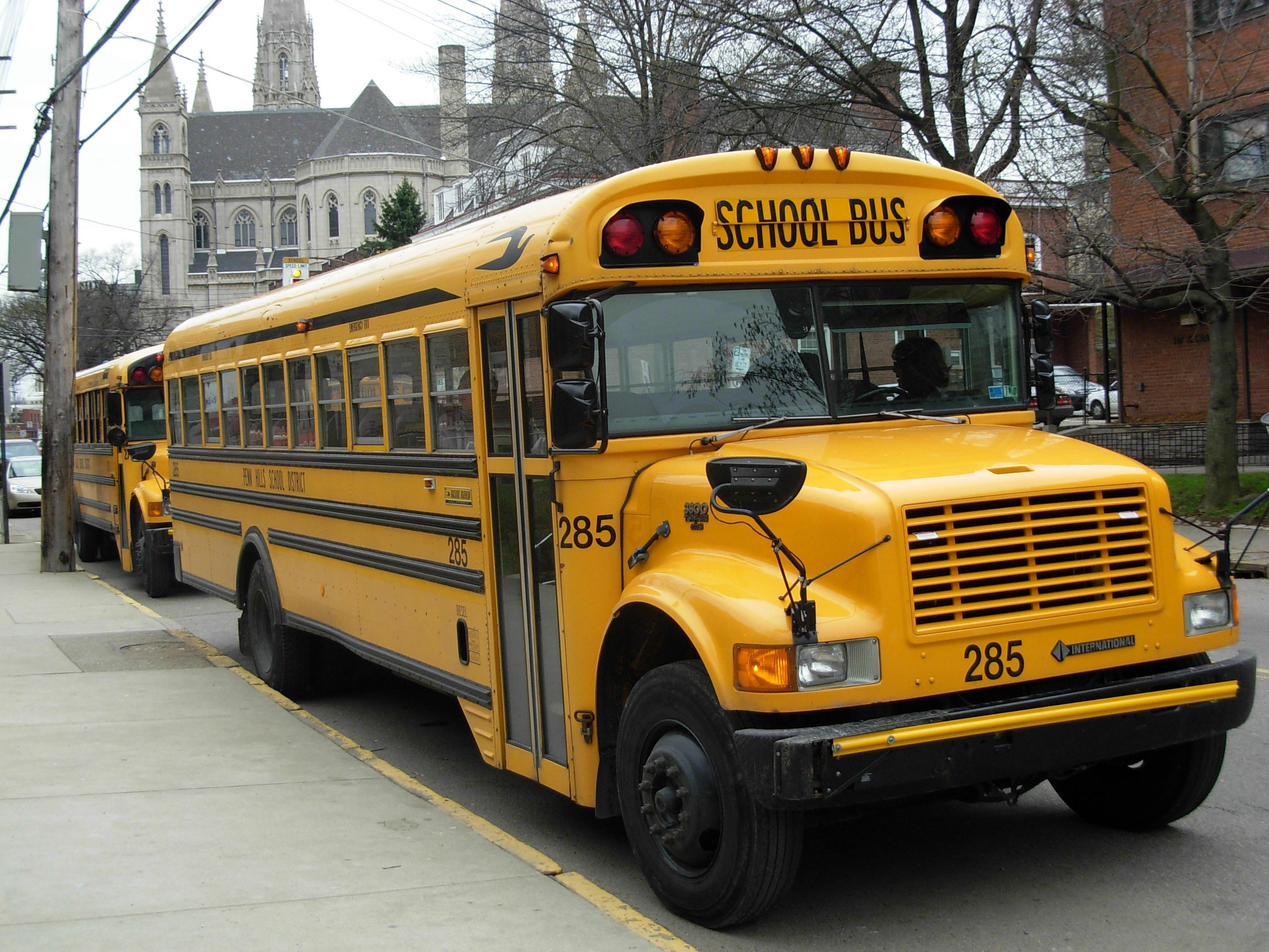Bus: (78, 145, 1259, 933), (710, 191, 910, 253)
